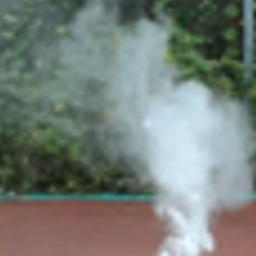smoke: (0, 0, 254, 255)
